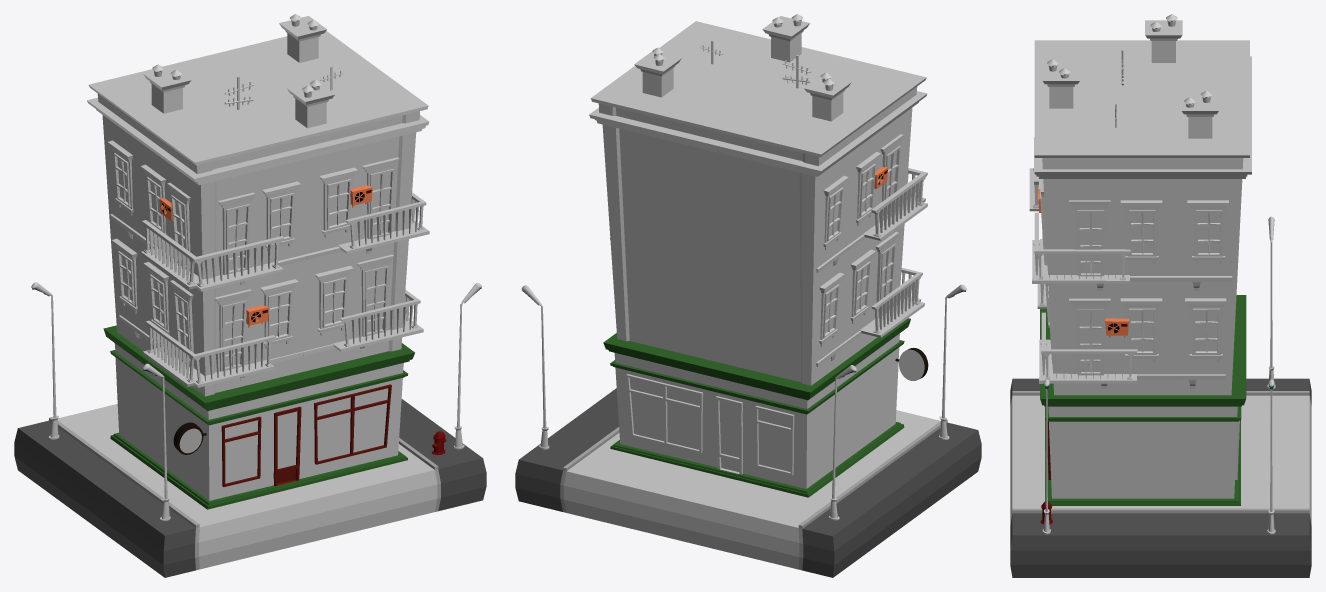
Rendered from Maison.obj.
3 views of the same model, side by side, from view 1: azimuth 30°, elevation 25°; view 2: azimuth 150°, elevation 25°; view 3: azimuth 270°, elevation 25° (orthographic). The views are drawn at different scales.
Visible parts, largest first — view 1: bâtiment_Cube.025, Plane.001, café_Cube.024, toit_Cube.026, toit.001_Cube.027, grande_fenêtre.001_Cube.034, grande_fenêtre.002_Cube.093, grande_fenêtre.003_Cube.094, fenêtre_Cube.007, fenêtre.002_Cube.018, grande_fenêtre.000_Cube.092, fenêtre.001_Cube.015 (+28 smaller); view 2: bâtiment_Cube.025, Plane.001, café_Cube.024, toit_Cube.026, toit.001_Cube.027, barrière.008_Cube.052, barrière.009_Cube.055, Cube.002_Cube.008, Cube.001_Cube.009, Cube_Cube.030, fenêtre.011_Cube.103, fenêtre.010_Cube.102 (+11 smaller); view 3: Plane.001, bâtiment_Cube.025, café_Cube.024, toit_Cube.026, grande_fenêtre.006_Cube.046, grande_fenêtre.004_Cube.044, fenêtre.006_Cube.049, fenêtre.004_Cube.037, fenêtre.005_Cube.048, fenêtre.007_Cube.050, toit.001_Cube.027, Cube_Cube.030 (+13 smaller).
Part boxes in pixels (x1,y1,x2,y2): bâtiment_Cube.025: [97, 94, 419, 396]; Plane.001: [14, 399, 486, 577]; café_Cube.024: [103, 325, 414, 509]; toit_Cube.026: [88, 31, 428, 165]; toit.001_Cube.027: [87, 97, 429, 181]; grande_fenêtre.001_Cube.034: [218, 192, 255, 275]; grande_fenêtre.002_Cube.093: [215, 289, 251, 371]; grande_fenêtre.003_Cube.094: [357, 254, 393, 336]; fenêtre_Cube.007: [319, 167, 357, 237]; fenêtre.002_Cube.018: [315, 265, 353, 335]; grande_fenêtre.000_Cube.092: [362, 157, 399, 238]; fenêtre.001_Cube.015: [262, 181, 300, 250]; bâtiment_Cube.025: [598, 86, 917, 385]; Plane.001: [515, 388, 981, 577]; café_Cube.024: [603, 318, 910, 497]; toit_Cube.026: [590, 21, 926, 157]; toit.001_Cube.027: [589, 91, 927, 173]; barrière.008_Cube.052: [871, 173, 926, 237]; barrière.009_Cube.055: [871, 273, 922, 333]; Cube.002_Cube.008: [634, 51, 681, 97]; Cube.001_Cube.009: [804, 76, 851, 121]; Cube_Cube.030: [762, 16, 809, 62]; fenêtre.011_Cube.103: [819, 272, 844, 346]; fenêtre.010_Cube.102: [850, 249, 875, 323]; Plane.001: [1010, 378, 1311, 577]; bâtiment_Cube.025: [1042, 158, 1243, 395]; café_Cube.024: [1040, 295, 1246, 505]; toit_Cube.026: [1034, 40, 1249, 157]; grande_fenêtre.006_Cube.046: [1069, 298, 1110, 375]; grande_fenêtre.004_Cube.044: [1069, 200, 1110, 276]; fenêtre.006_Cube.049: [1185, 298, 1226, 362]; fenêtre.004_Cube.037: [1187, 200, 1228, 263]; fenêtre.005_Cube.048: [1120, 200, 1162, 263]; fenêtre.007_Cube.050: [1120, 298, 1162, 362]; toit.001_Cube.027: [1034, 56, 1251, 174]; Cube_Cube.030: [1042, 66, 1079, 108].
Size of the model in its own units: 4.49 by 5.54 by 3.42.
